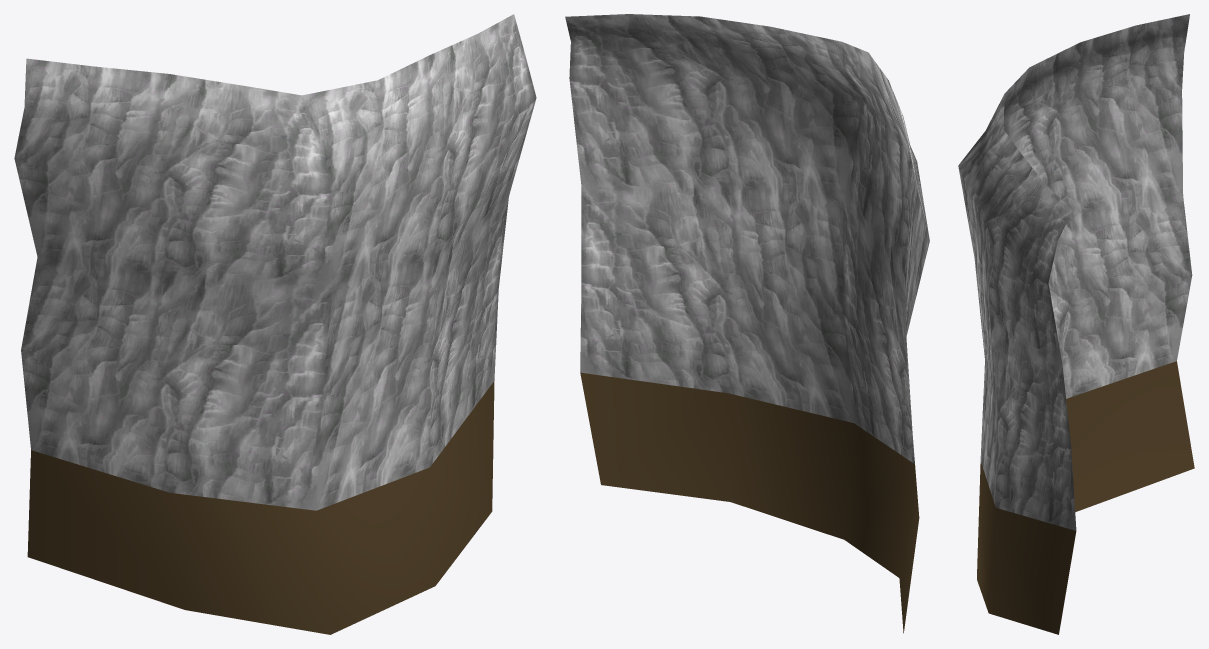
File: SWORDLIGHT20_PS-AREA03_69.fbx
3 views of the same model, side by side, from view 1: azimuth 30°, elevation 25°; view 2: azimuth 150°, elevation 25°; view 3: azimuth 270°, elevation 25° (orthographic). The views are drawn at different scales.
Visible parts, largest first — view 1: SWORDLIGHT20_PS-AREA03_69; view 2: SWORDLIGHT20_PS-AREA03_69; view 3: SWORDLIGHT20_PS-AREA03_69.
Boxes of the visible parts, x1,y1,x2,y2 form: SWORDLIGHT20_PS-AREA03_69: (14,14,536,634); SWORDLIGHT20_PS-AREA03_69: (565,14,929,633); SWORDLIGHT20_PS-AREA03_69: (958,14,1194,634).
Bounding box in the file's own units: 186562 × 216486 × 94405.
2 materials, 2 textured.
